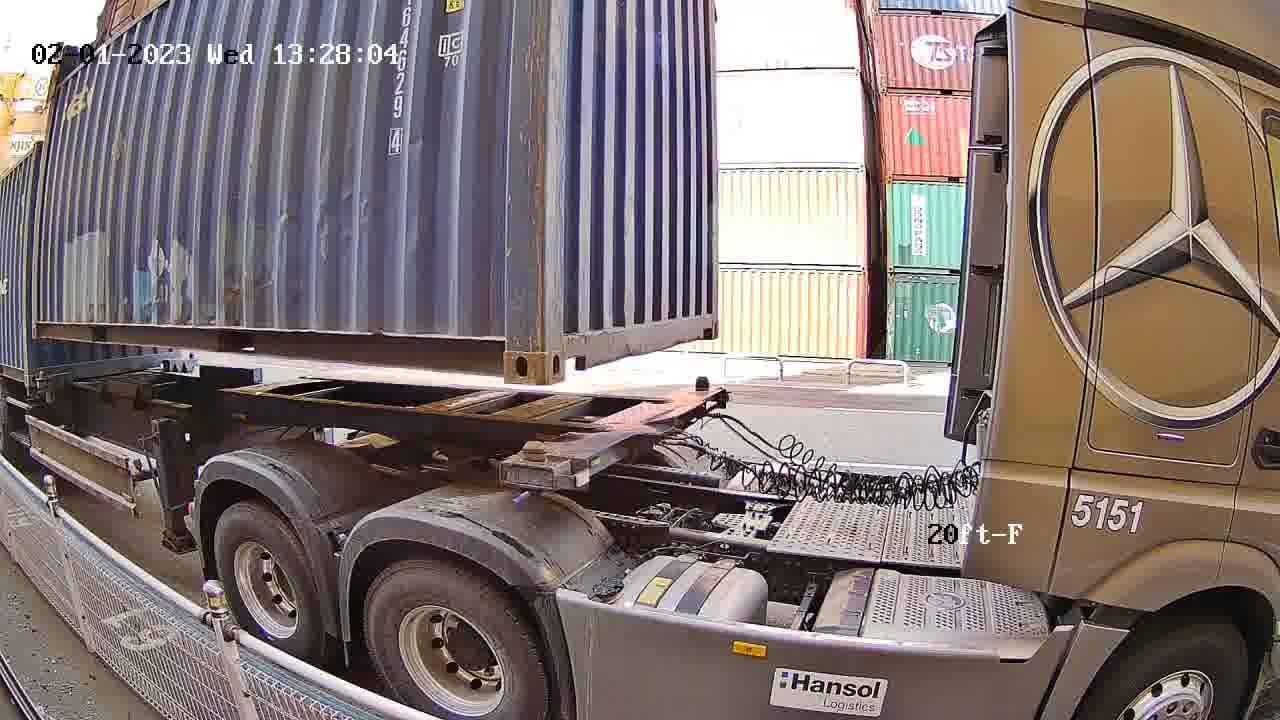Chassis: (494, 385, 727, 492)
Cone: (514, 439, 549, 497), (689, 375, 713, 396)
Hole_L: (544, 310, 595, 385)
Hole_R: (466, 312, 542, 388), (695, 304, 721, 339)
Tire: (364, 561, 547, 718), (215, 506, 320, 662)
